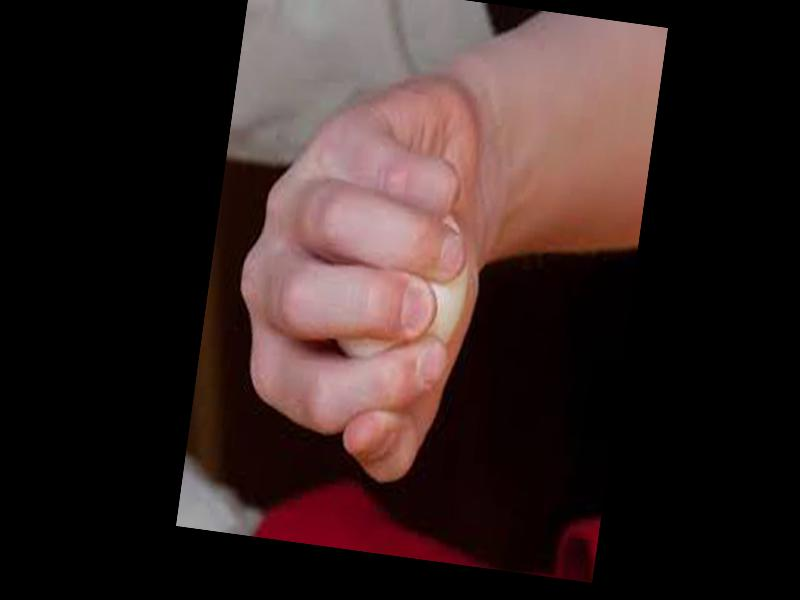Eggs: (330, 201, 477, 391)
